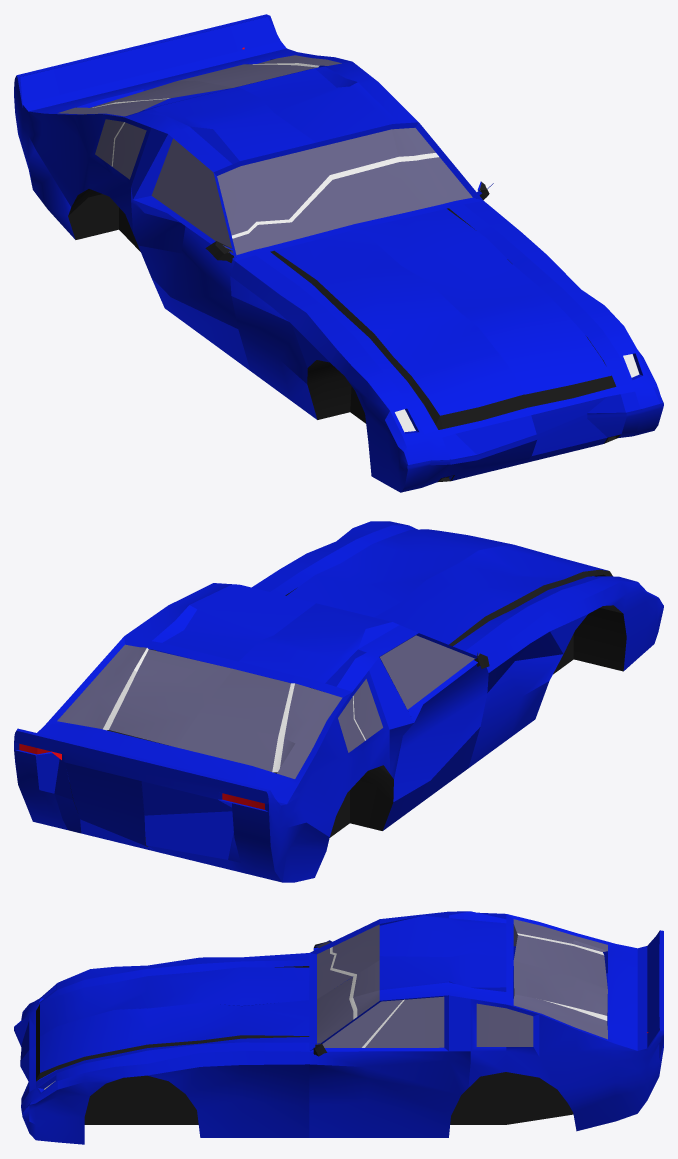
The model's file is CarV1-GlossyBrokenParts.fbx.
The picture shows the model from 3 angles, top to bottom: view 1: azimuth 30°, elevation 25°; view 2: azimuth 150°, elevation 25°; view 3: azimuth 270°, elevation 25°; orthographic projection. The views are drawn at different scales.
Parts seen in each view (by area): view 1: Hood, WindowF, QuarterPanelFR, Top, CarR, BumberF, CarL, DoorR, QuarterPanelBR, WindowsR, QarterPanelFL, WindowB; view 2: BumberB, WindowB, Hood, Top, QuarterPanelFR, DoorR, CarR, QuarterPanelBR, WindowsR, CarL, QarterPanelFL; view 3: Hood, QarterPanelFL, DoorL, CarL, QuarterPanelBL, Top, WindowB, WindowsL, CarR, WindowF, QuarterPanelFR, BumberF.
Boxes of the visible parts, <box> form: Hood: <box>270,208,616,429</box>; WindowF: <box>217,128,472,255</box>; QuarterPanelFR: <box>230,255,423,492</box>; Top: <box>124,61,418,172</box>; CarR: <box>16,44,466,434</box>; BumberF: <box>401,384,642,492</box>; CarL: <box>142,14,642,423</box>; DoorR: <box>131,128,250,370</box>; QuarterPanelBR: <box>14,75,151,239</box>; WindowsR: <box>95,119,233,253</box>; QarterPanelFL: <box>463,200,663,436</box>; WindowB: <box>58,55,341,116</box>; BumberB: <box>14,730,282,882</box>; WindowB: <box>57,644,342,778</box>; Hood: <box>285,529,612,646</box>; Top: <box>124,583,418,697</box>; QuarterPanelFR: <box>465,576,663,768</box>; DoorR: <box>369,633,488,830</box>; CarR: <box>141,576,626,837</box>; QuarterPanelBR: <box>267,670,389,882</box>; WindowsR: <box>338,635,474,752</box>; CarL: <box>16,525,417,846</box>; QarterPanelFL: <box>252,521,407,683</box>; Hood: <box>36,966,309,1081</box>; QarterPanelFL: <box>21,1042,309,1144</box>; DoorL: <box>309,995,470,1137</box>; CarL: <box>36,980,663,1124</box>; QuarterPanelBL: <box>468,999,663,1131</box>; Top: <box>379,911,513,1005</box>; WindowB: <box>513,919,607,1039</box>; WindowsL: <box>322,996,533,1047</box>; CarR: <box>36,914,663,1080</box>; WindowF: <box>317,924,379,1043</box>; QuarterPanelFR: <box>22,953,309,1013</box>; BumberF: <box>14,998,39,1103</box>.
Size of the model in its own units: 198 by 121 by 479.
